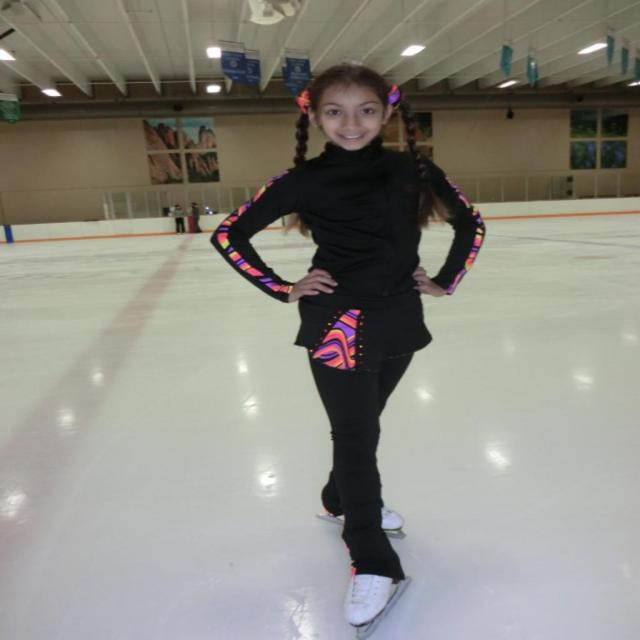nomask: (313, 82, 385, 151)
